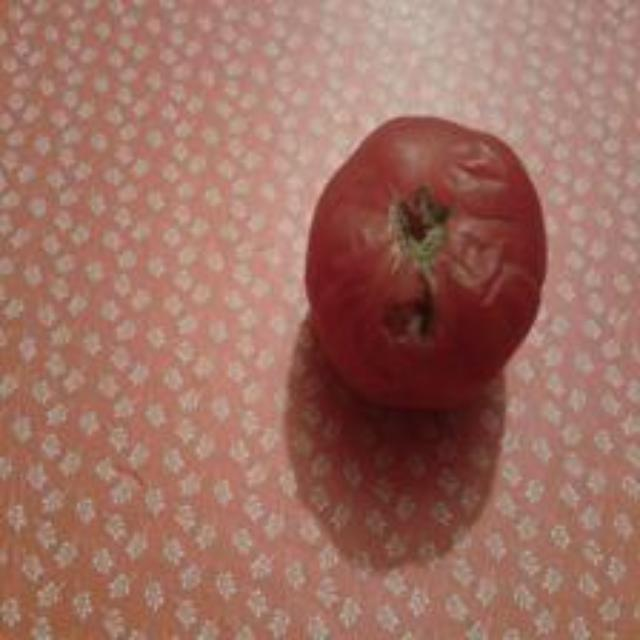defect: (296, 111, 554, 419)
